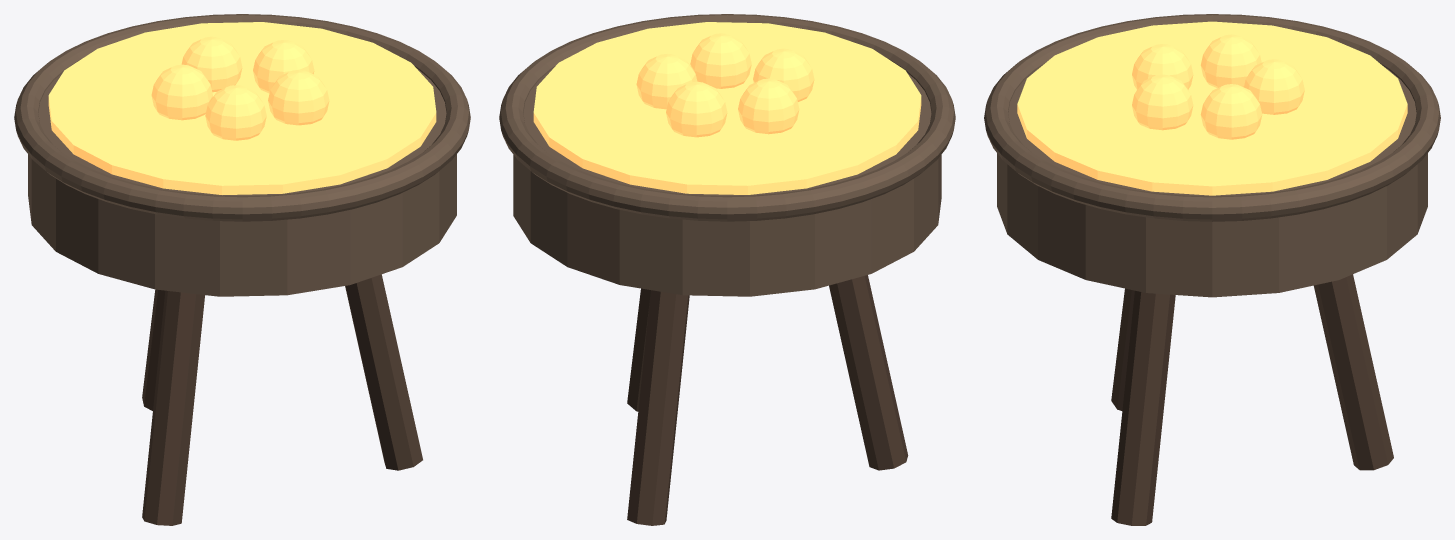
The model's file is brazier.glb.
3 renders of one model, left to right at view 1: azimuth 30°, elevation 25°; view 2: azimuth 150°, elevation 25°; view 3: azimuth 270°, elevation 25°, orthographic.
Visible parts, largest first — view 1: brazier; view 2: brazier; view 3: brazier.
Part boxes in pixels (x1=…): brazier: x1=14, y1=14, x2=470, y2=525; brazier: x1=499, y1=14, x2=955, y2=525; brazier: x1=984, y1=14, x2=1440, y2=525.
Size of the model in its own units: 0.89 by 0.8665 by 0.89.
